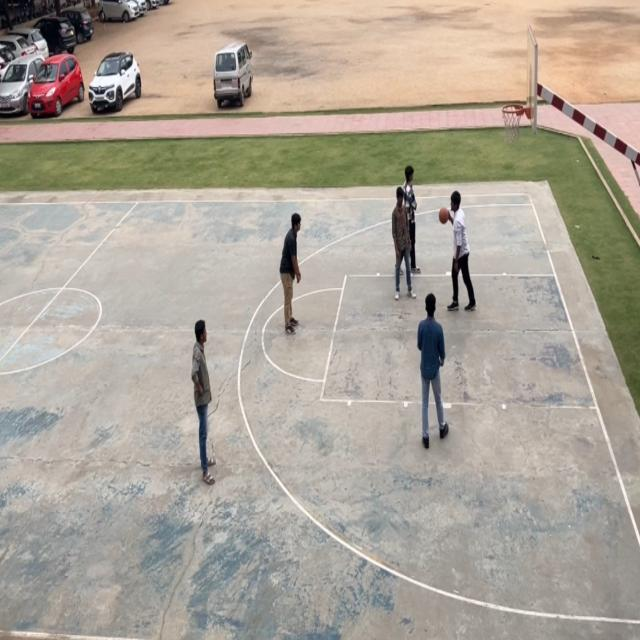basketball: (436, 204, 449, 229)
hoop: (501, 100, 525, 146)
